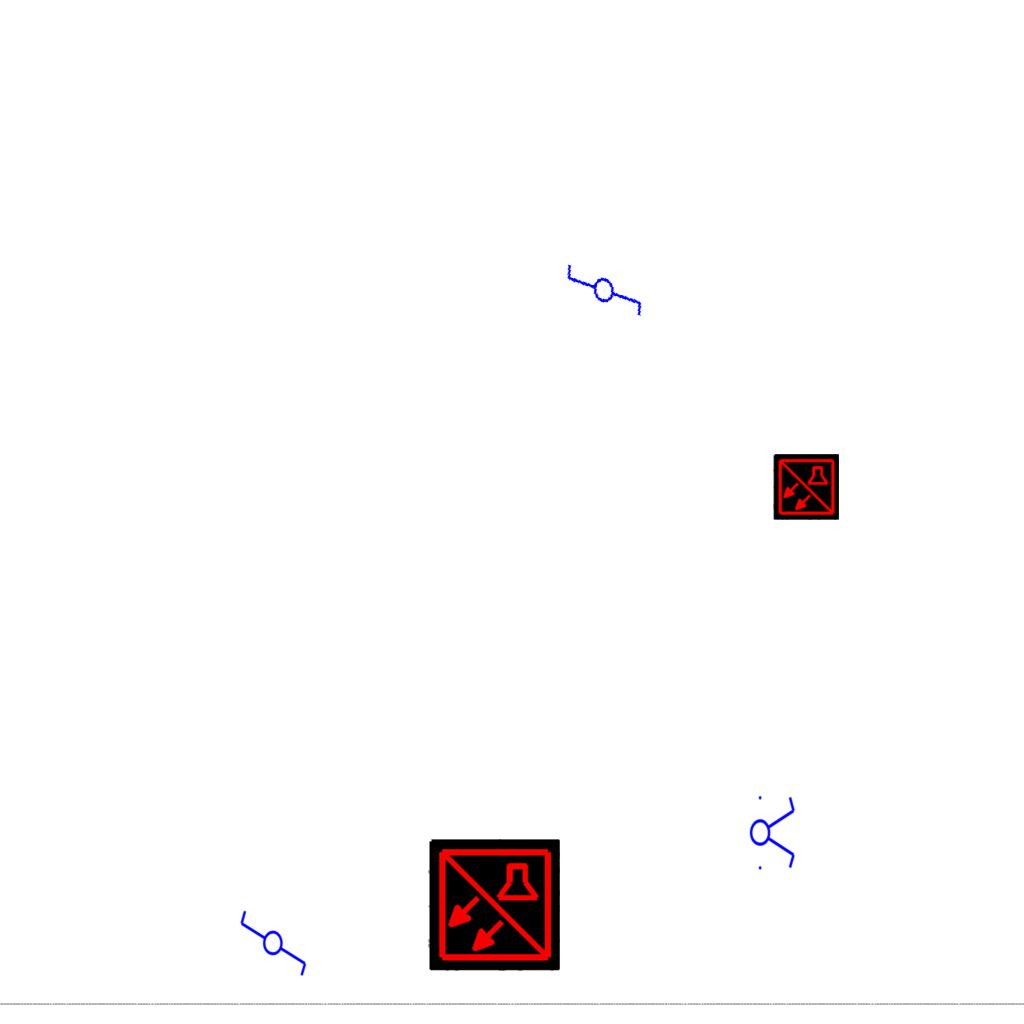OKW_Multisensormelder_(Kombination_optischer_Rauch-Kahlenmonoxid_Waerme-Melder): (428, 839, 560, 971), (773, 454, 839, 520)
Serienschalter: (749, 790, 797, 874)
Wechselschalter: (560, 239, 648, 333), (238, 900, 310, 978)
